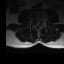CCS_normal: (37, 19, 38, 27)
LFS_severe_stenosis: (40, 18, 42, 24)
LLS_stenosis: (38, 19, 40, 26)
RFS_severe_stenosis: (33, 18, 35, 24)
RLS_stenosis: (35, 19, 37, 25)
